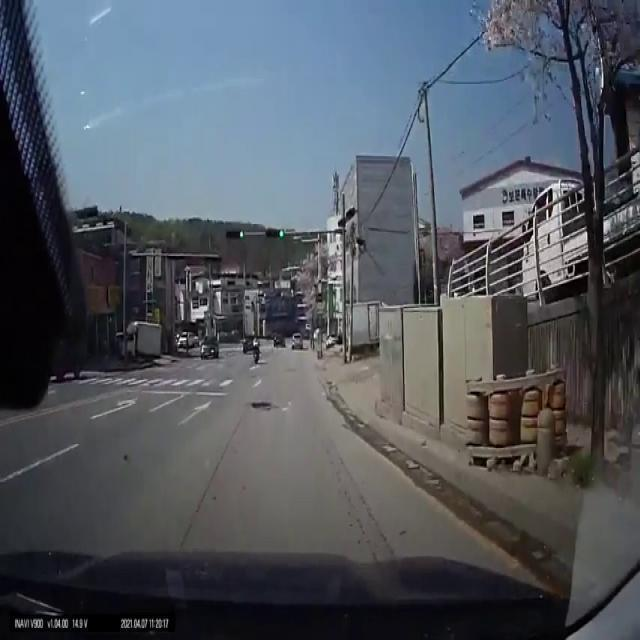pothole: (251, 401, 274, 411)
